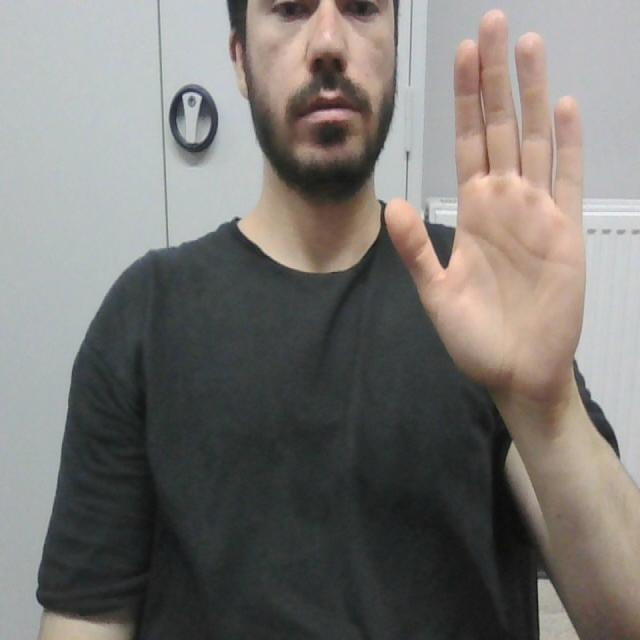Dur: (377, 2, 604, 412)
